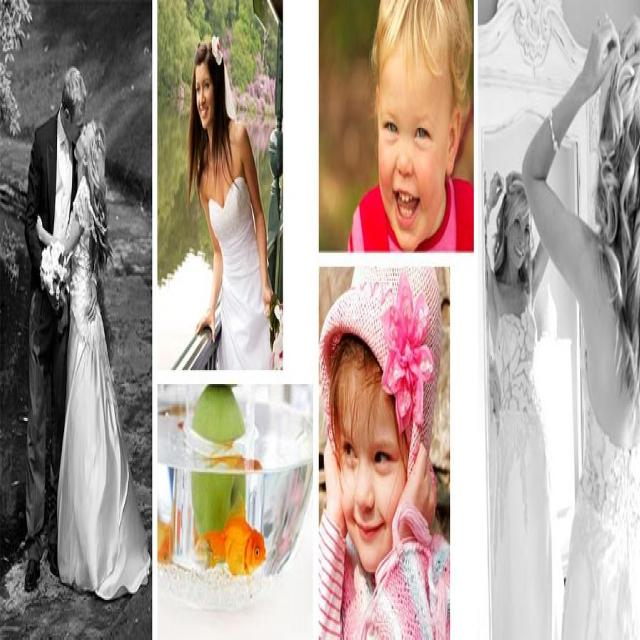nomask: (337, 353, 409, 575), (377, 43, 445, 250), (509, 200, 530, 268), (196, 63, 213, 128), (70, 93, 84, 141), (76, 121, 92, 154)
